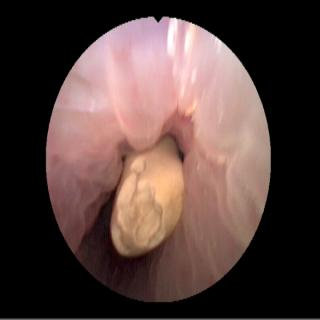stone: (110, 133, 183, 258)
tissue: (49, 20, 268, 298)
